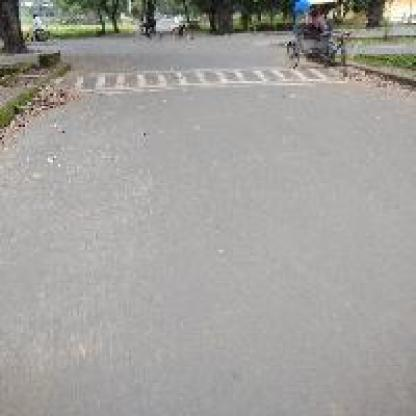Speed Bump: (79, 64, 322, 98)
